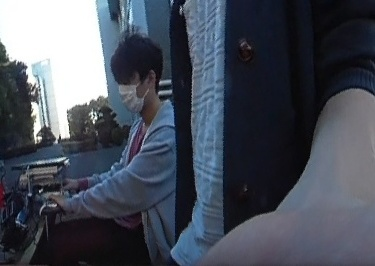person: (101, 29, 172, 266)
